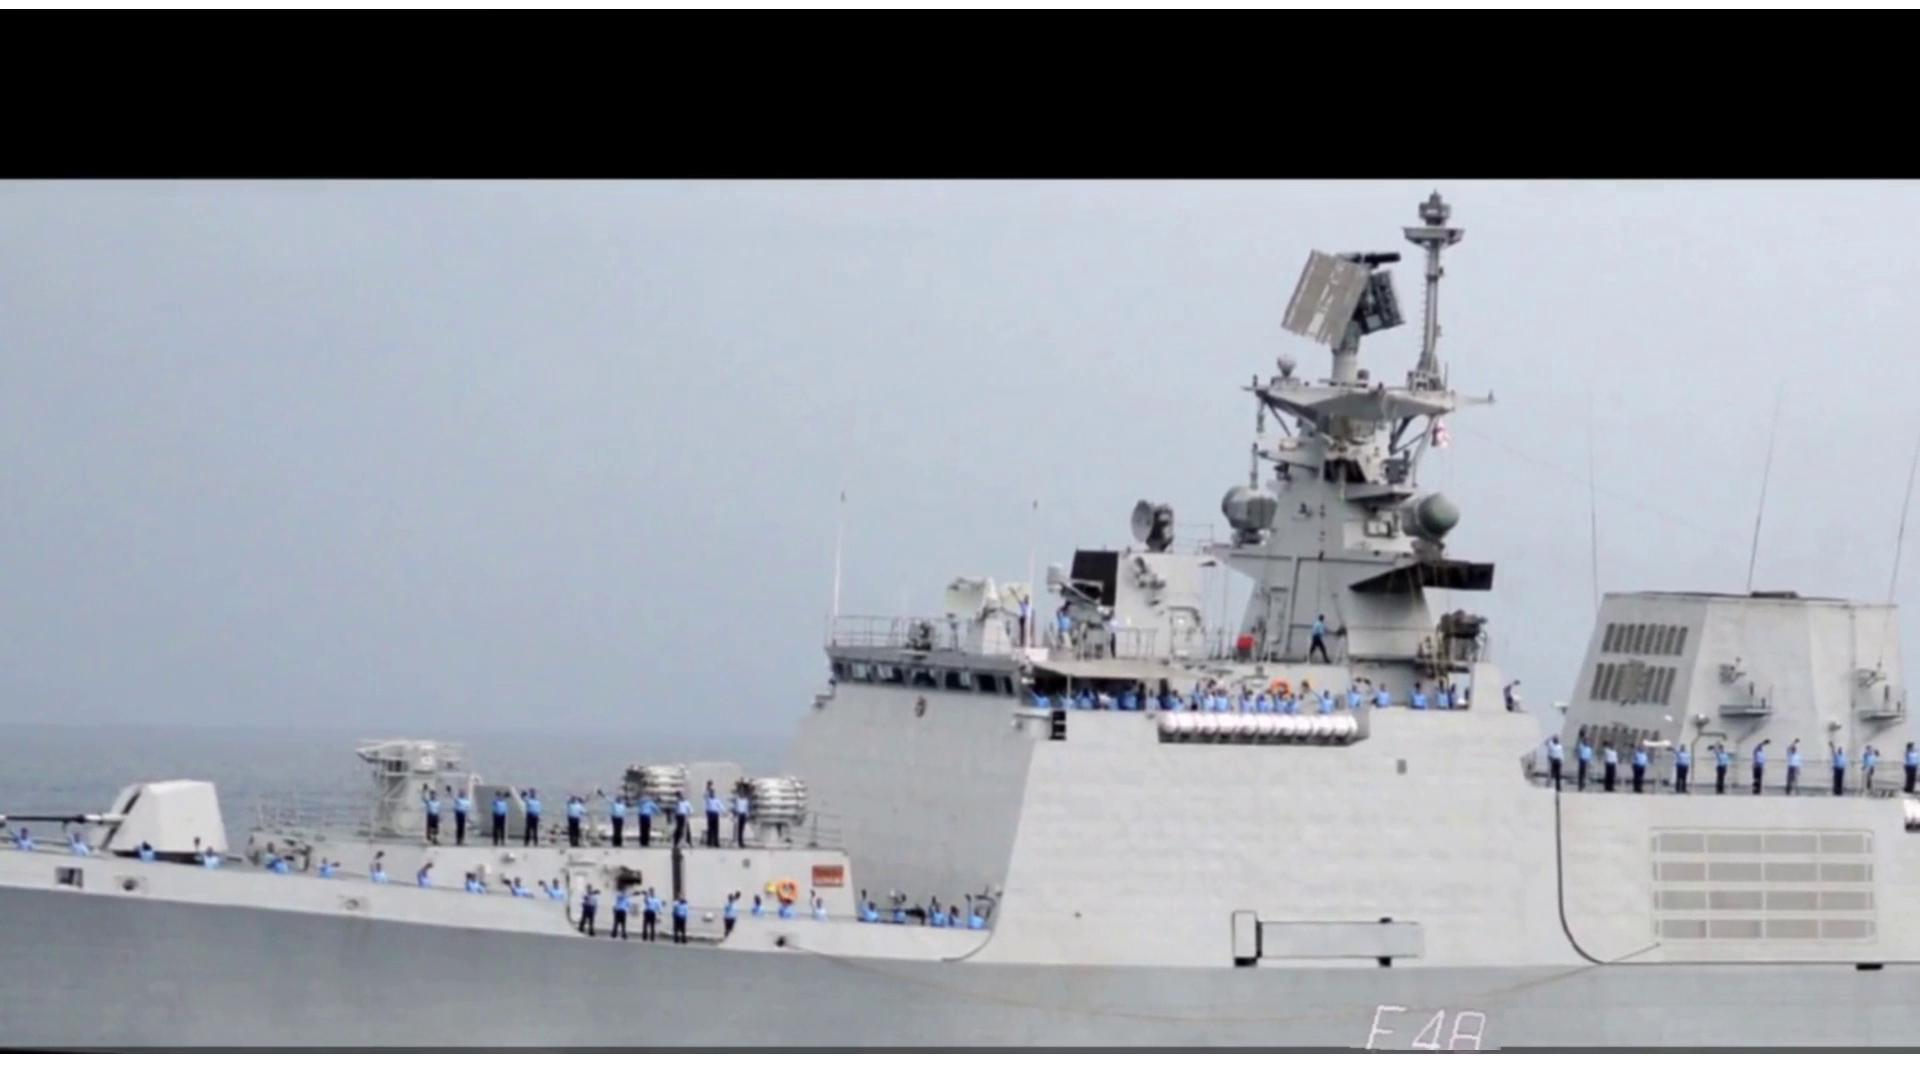OCR: (1349, 989, 1506, 1051)
